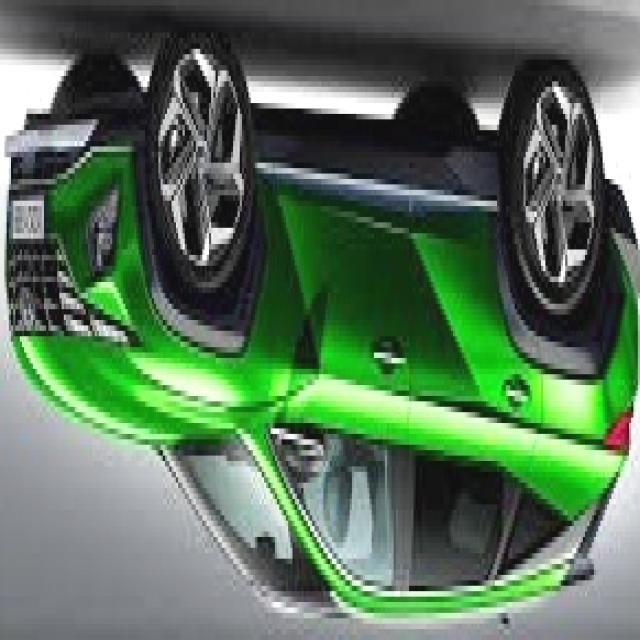green: (6, 28, 640, 624)
